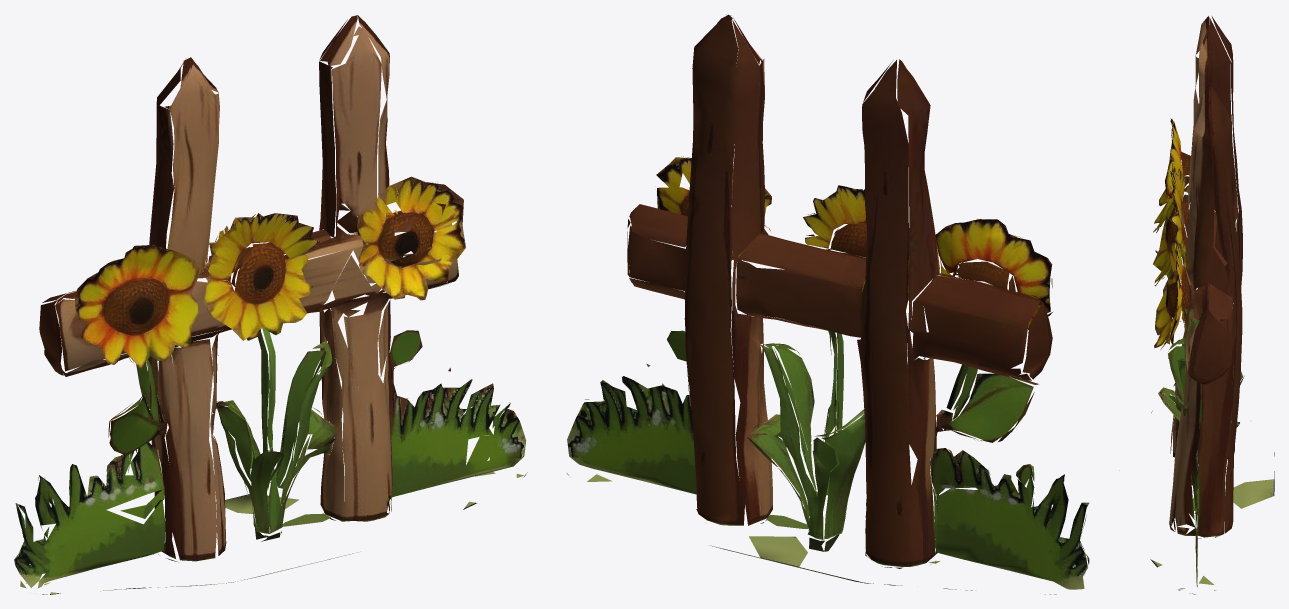
Rendered from tarla_cit.glb.
The picture shows the model from 3 angles, left to right: view 1: azimuth 30°, elevation 25°; view 2: azimuth 150°, elevation 25°; view 3: azimuth 270°, elevation 25°; orthographic projection. The views are drawn at different scales.
Parts seen in each view (by area): view 1: geometry_0; view 2: geometry_0; view 3: geometry_0.
Part boxes in pixels (x1,y1,x2,y2): geometry_0: (14,15,527,594); geometry_0: (566,14,1089,594); geometry_0: (1119,16,1274,594).
Bounding box in the file's own units: 0.9902 × 0.9172 × 0.2866.
1 material, 1 textured.
